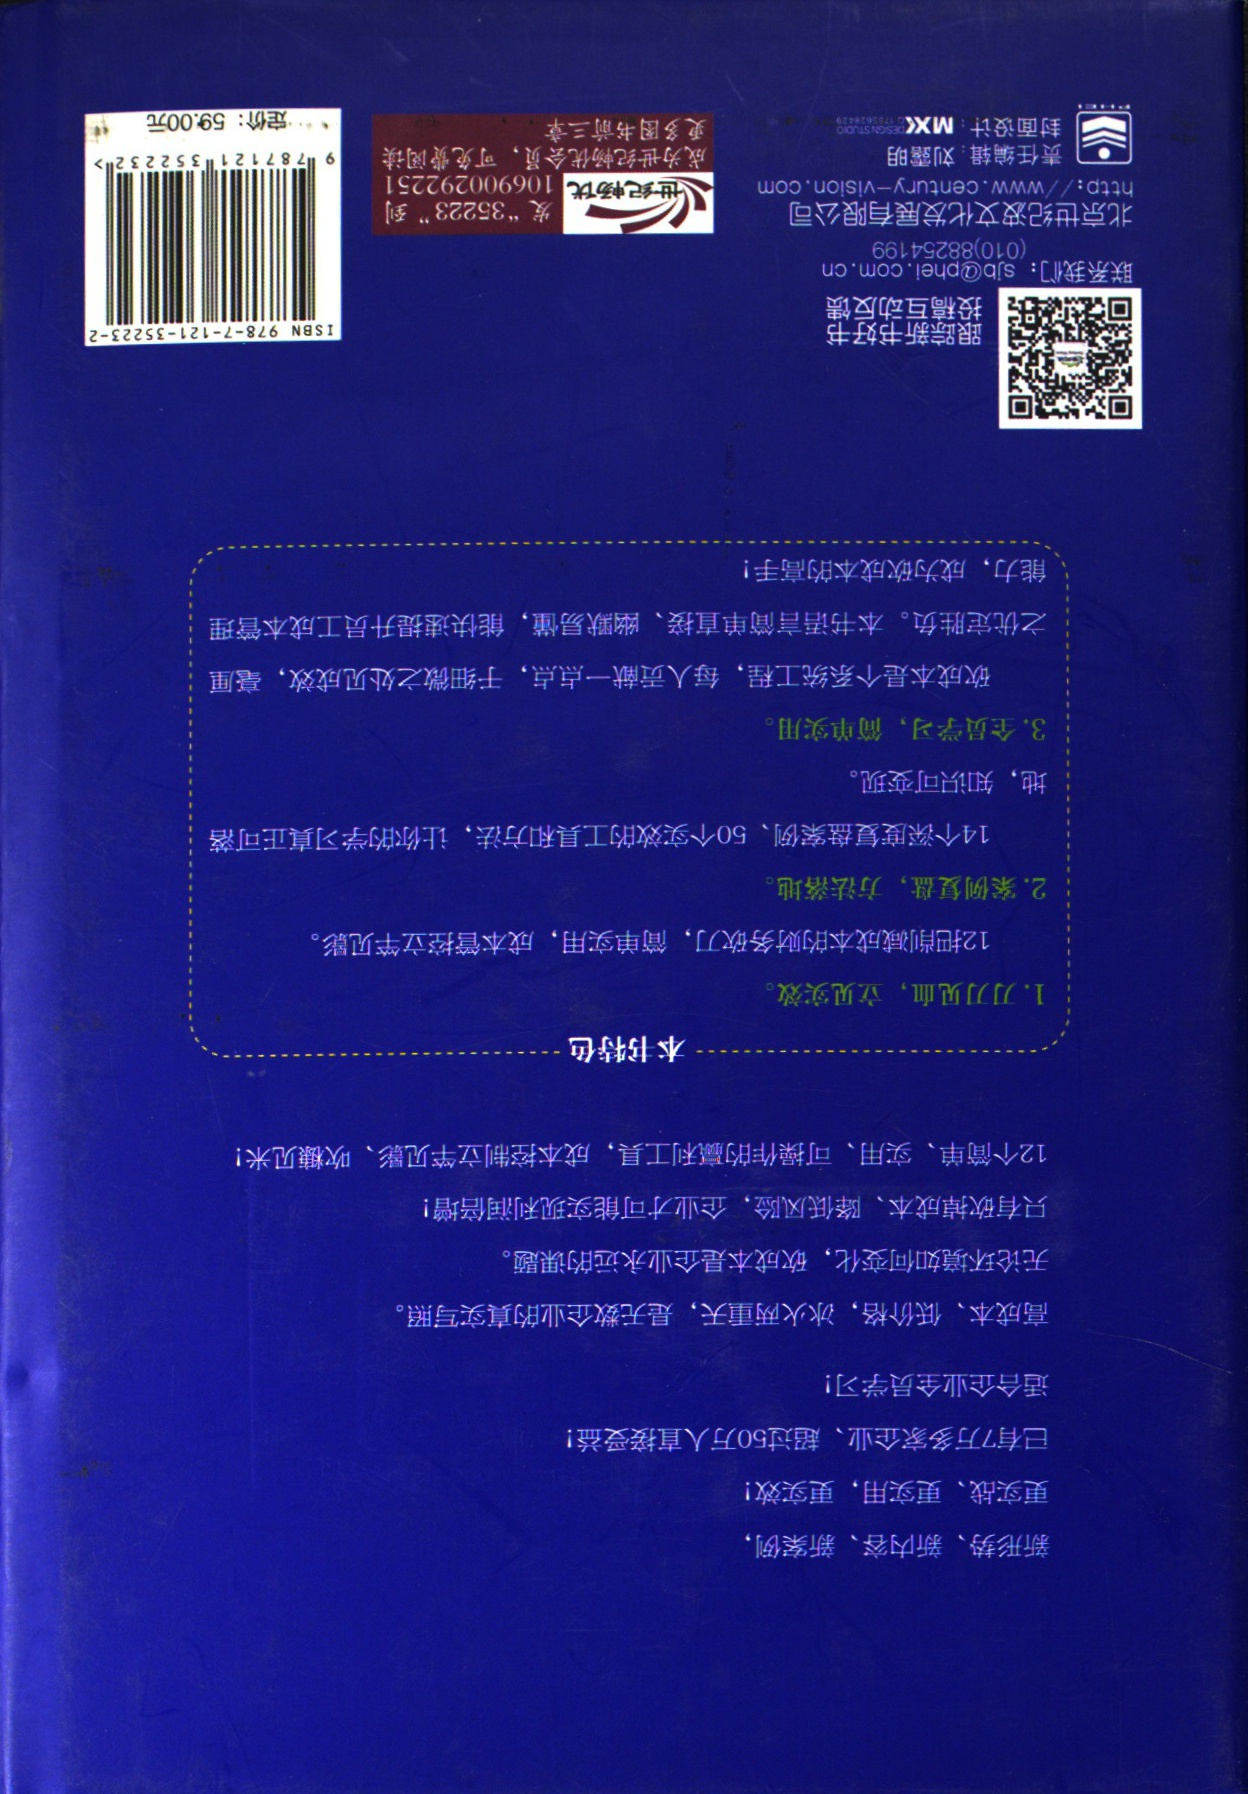barcode: (89, 110, 340, 341)
